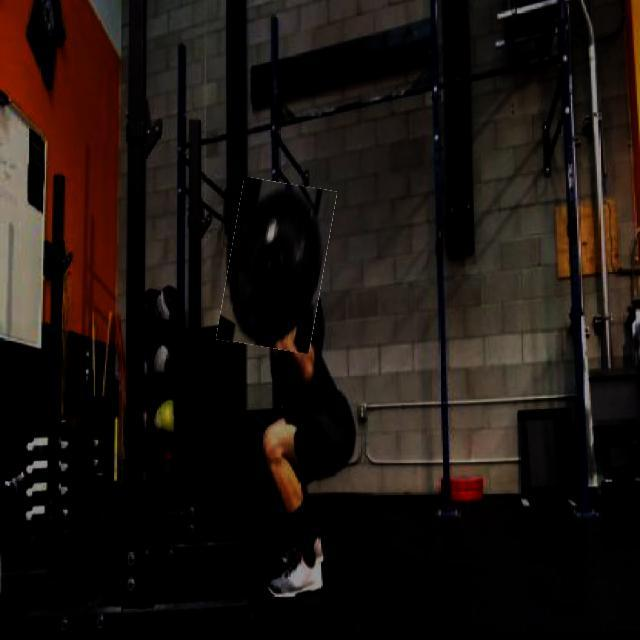barbell: (224, 182, 332, 353)
